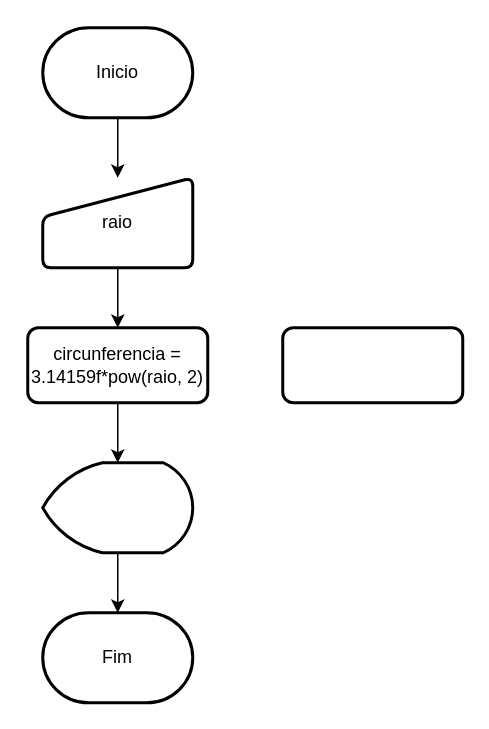
Some shapes in this 489 by 729 pixel diagram are drawn without their labels. Each missing label, with the box of its shape:
circunferencia: (40, 460, 194, 554)
circunferencia = 3.14159f*raio^2: (280, 326, 464, 404)
